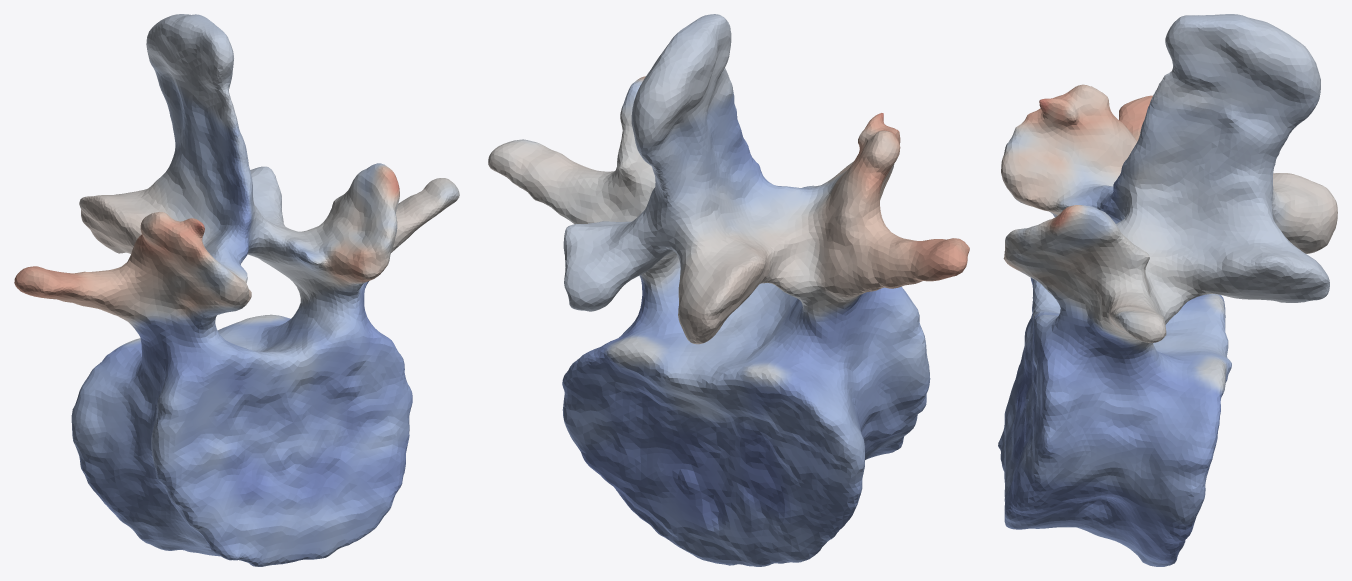
Rendered from L2_colored_output.glb.
The picture shows the model from 3 angles, left to right: view 1: azimuth 30°, elevation 25°; view 2: azimuth 150°, elevation 25°; view 3: azimuth 270°, elevation 25°; orthographic projection. The views are drawn at different scales.
Parts seen in each view (by area): view 1: Patient_004_L2+oriented.stl; view 2: Patient_004_L2+oriented.stl; view 3: Patient_004_L2+oriented.stl.
Boxes of the visible parts, bbox=[...] form: Patient_004_L2+oriented.stl: bbox=[14, 14, 459, 566]; Patient_004_L2+oriented.stl: bbox=[488, 14, 969, 566]; Patient_004_L2+oriented.stl: bbox=[998, 14, 1337, 566].
Bounding box in the file's own units: 82.78 × 92.52 × 53.06.
